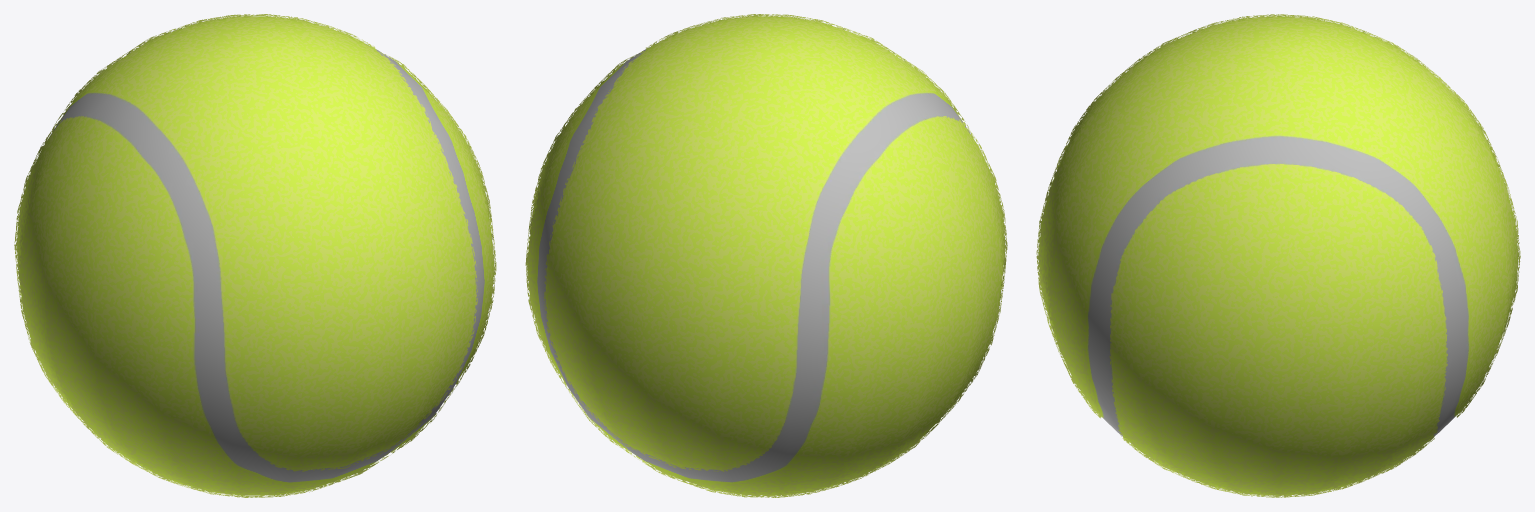
The model's file is ball.glb.
3 renders of one model, left to right at view 1: azimuth 30°, elevation 25°; view 2: azimuth 150°, elevation 25°; view 3: azimuth 270°, elevation 25°, orthographic.
Parts seen in each view (by area): view 1: defaultMaterial (×2); view 2: defaultMaterial (×2); view 3: defaultMaterial (×2).
Boxes of the visible parts, <box> form: defaultMaterial (×2): <box>14,14,496,497</box>; defaultMaterial (×2): <box>525,14,1007,497</box>; defaultMaterial (×2): <box>1036,14,1520,497</box>.
Size of the model in its own units: 0.1155 by 0.1155 by 0.1155.
Materials: 2 (2 with a texture image).
